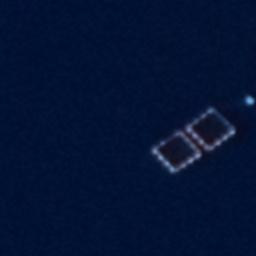square_solid: (149, 127, 205, 178), (183, 105, 236, 155)
